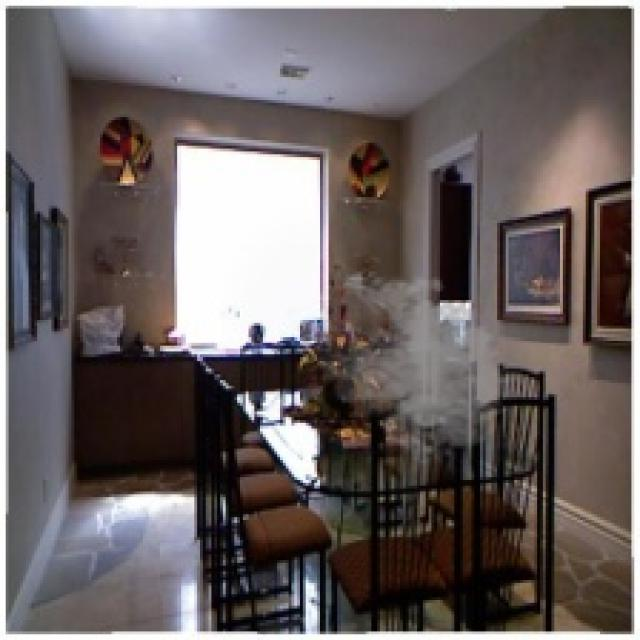smoke: (312, 266, 517, 468)
